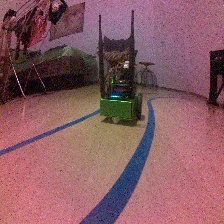rob: (98, 66, 143, 124)
